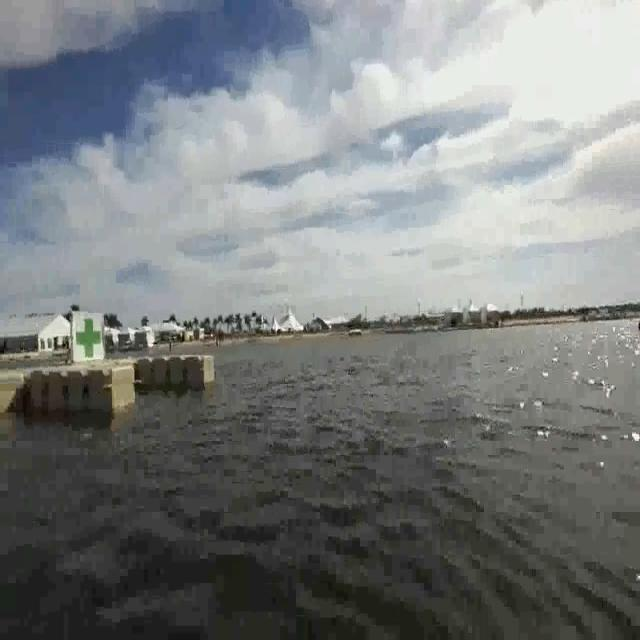blue-cross: (74, 308, 106, 362)
